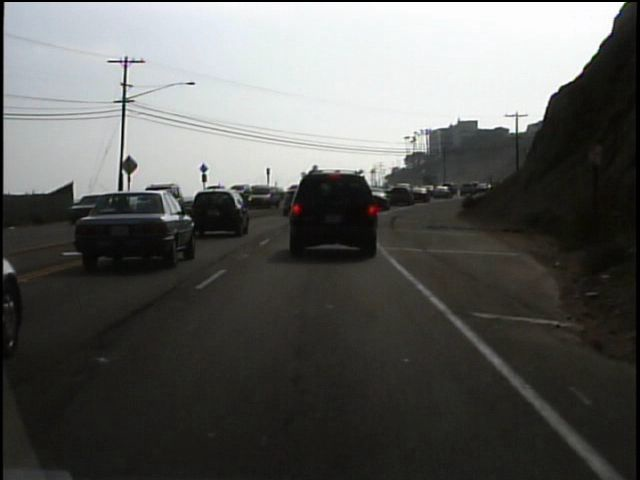person: (169, 182, 185, 213)
